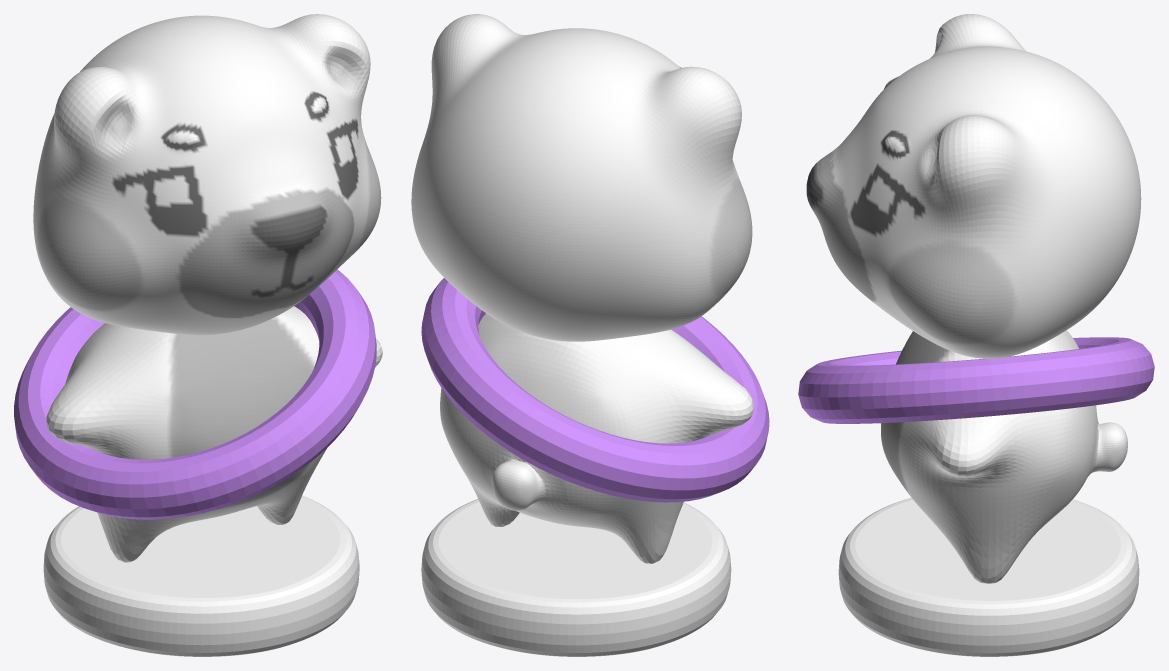
File: crumbs.glb
3 views of the same model, side by side, from view 1: azimuth 30°, elevation 25°; view 2: azimuth 150°, elevation 25°; view 3: azimuth 270°, elevation 25° (orthographic). The views are drawn at different scales.
Visible parts, largest first — view 1: Quad Sphere (×2), Cylinder (×2), Torus; view 2: Quad Sphere (×2), Cylinder (×2), Torus; view 3: Quad Sphere (×2), Cylinder (×2), Torus.
Part boxes in pixels (x1,y1,x2,y2): Quad Sphere (×2): [33, 14, 382, 562]; Cylinder (×2): [43, 495, 359, 656]; Torus: [14, 269, 376, 519]; Quad Sphere (×2): [411, 14, 753, 563]; Cylinder (×2): [421, 499, 731, 656]; Torus: [421, 278, 769, 502]; Quad Sphere (×2): [806, 14, 1141, 583]; Cylinder (×2): [838, 497, 1139, 656]; Torus: [798, 337, 1154, 423].
Size of the model in its own units: 1.19 by 1.95 by 1.17.
